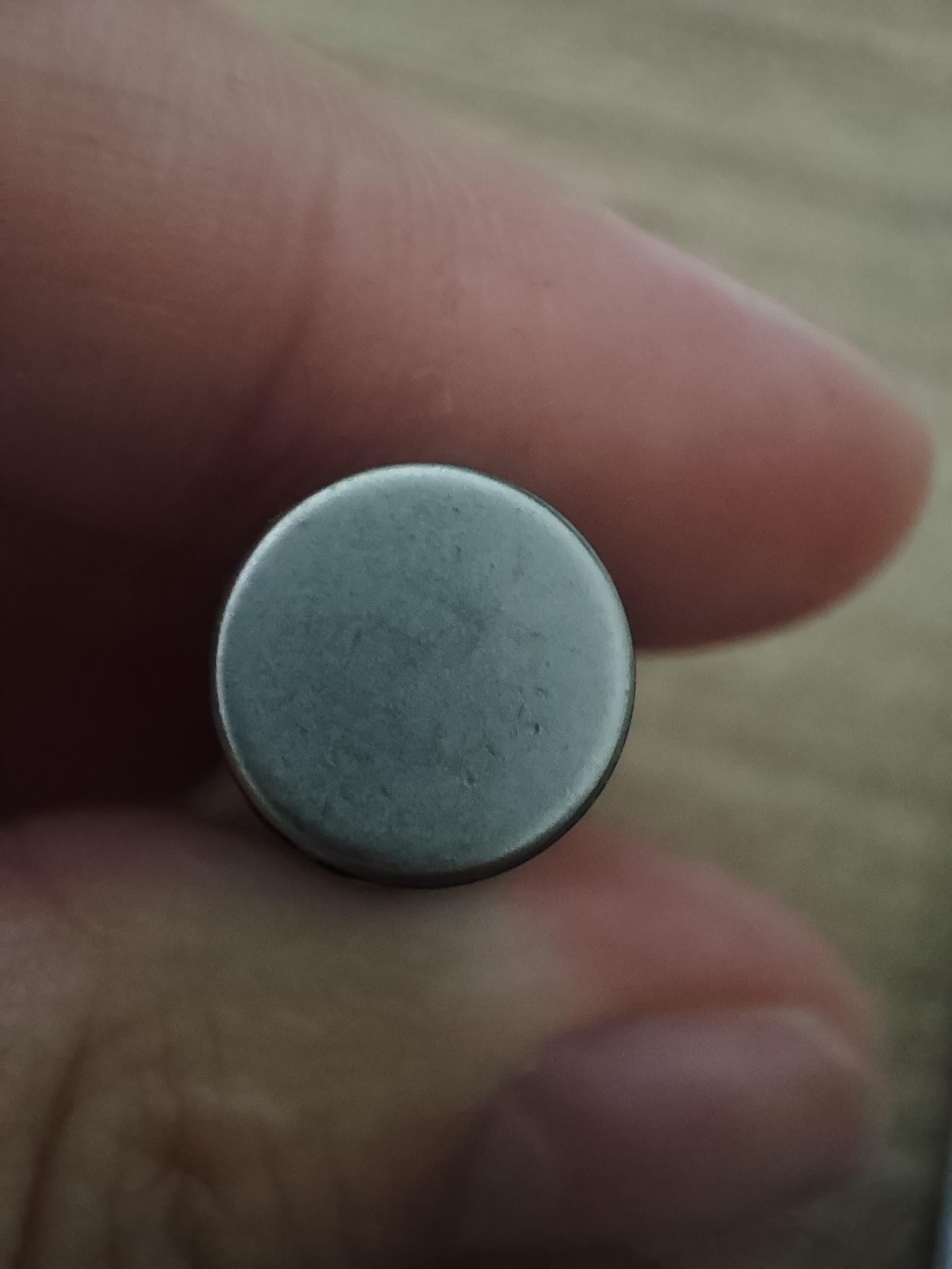COIN: (210, 460, 638, 889)
